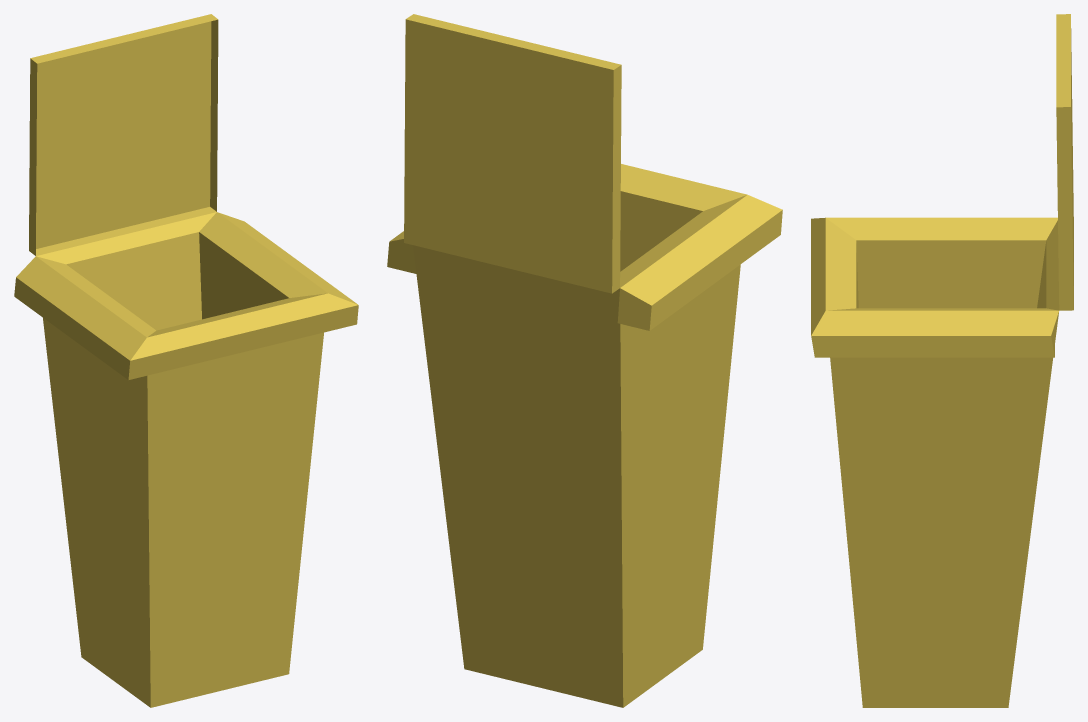
The model's file is Kuning.fbx.
The picture shows the model from 3 angles, left to right: view 1: azimuth 30°, elevation 25°; view 2: azimuth 150°, elevation 25°; view 3: azimuth 270°, elevation 25°; orthographic projection. The views are drawn at different scales.
Visible parts, largest first — view 1: Cube.001; view 2: Cube.001; view 3: Cube.001.
Boxes of the visible parts, <box> form: Cube.001: <box>14,14,358,707</box>; Cube.001: <box>387,14,782,707</box>; Cube.001: <box>811,14,1073,707</box>.
Size of the model in its own units: 323 by 787 by 306.
